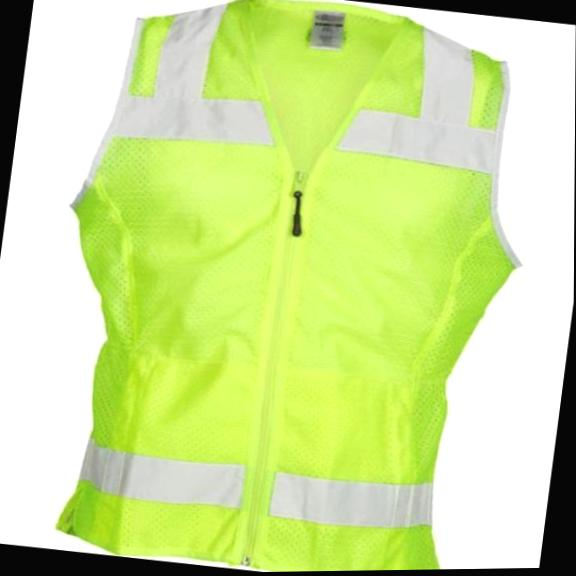safety_vest: (24, 0, 553, 576)
